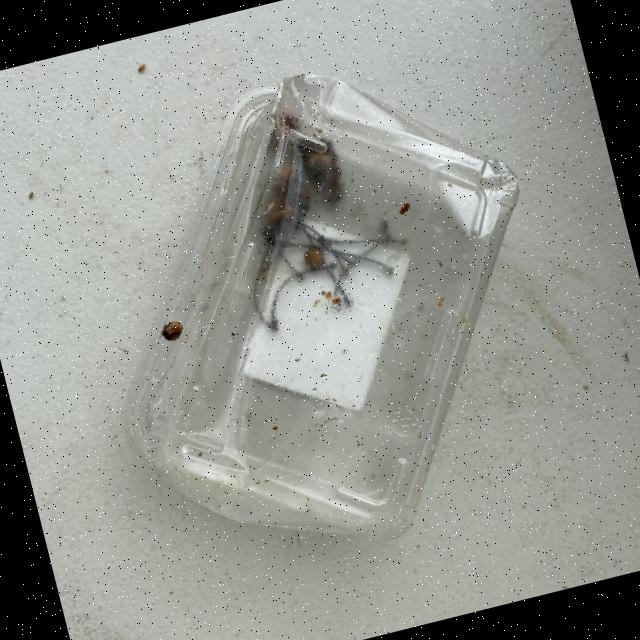plastic: (48, 27, 594, 594)
